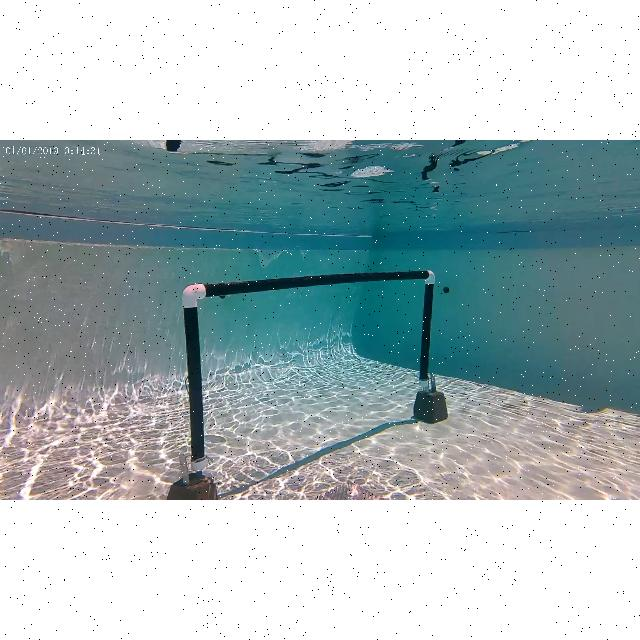prequal gate: (183, 272, 435, 470)
prequal gate leg l: (180, 276, 226, 470)
prequal gate leg r: (409, 267, 436, 391)
